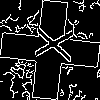X: (25, 25, 74, 63)
